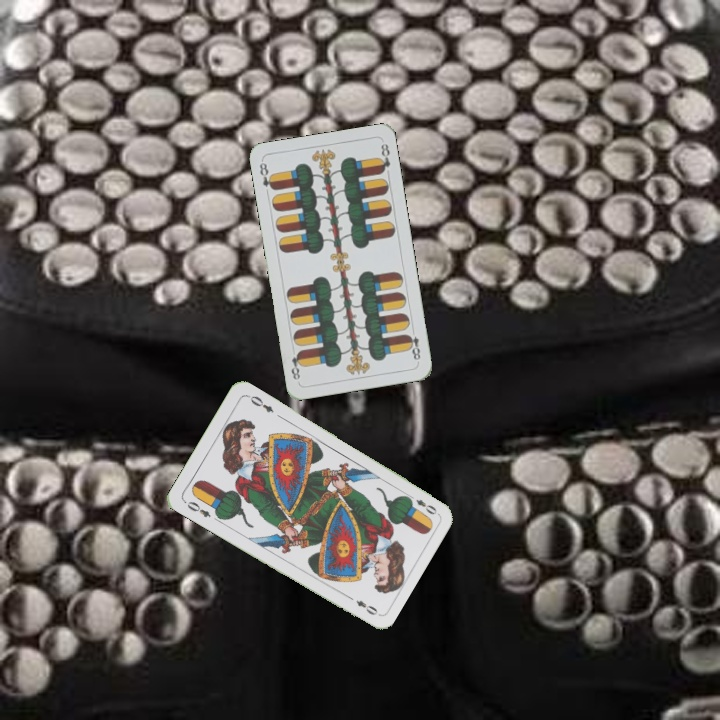E8: (403, 324, 423, 363), (255, 159, 277, 193)
EO: (403, 490, 440, 517), (180, 497, 213, 520)
